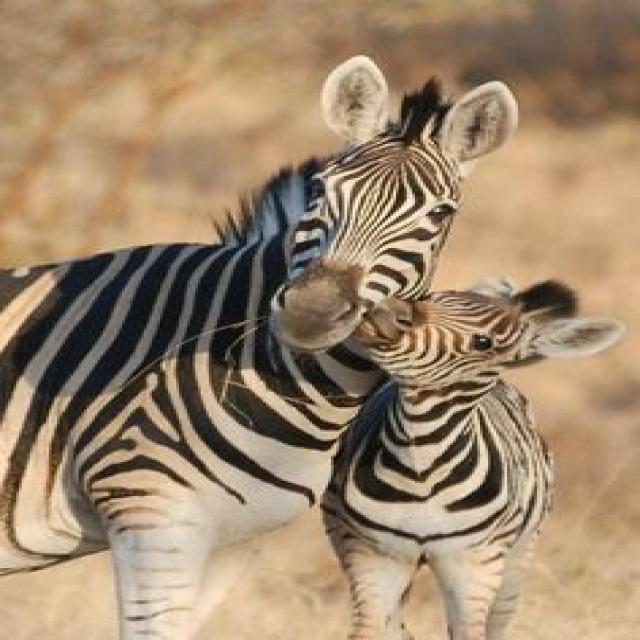Herbivorous: (0, 57, 521, 640), (320, 278, 626, 640)
